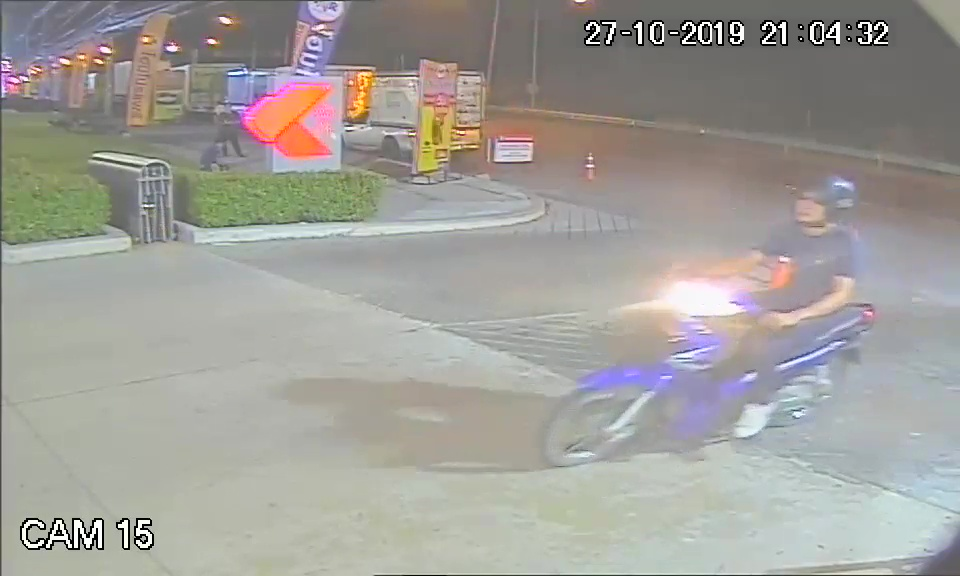motorcycle: (539, 265, 873, 470)
